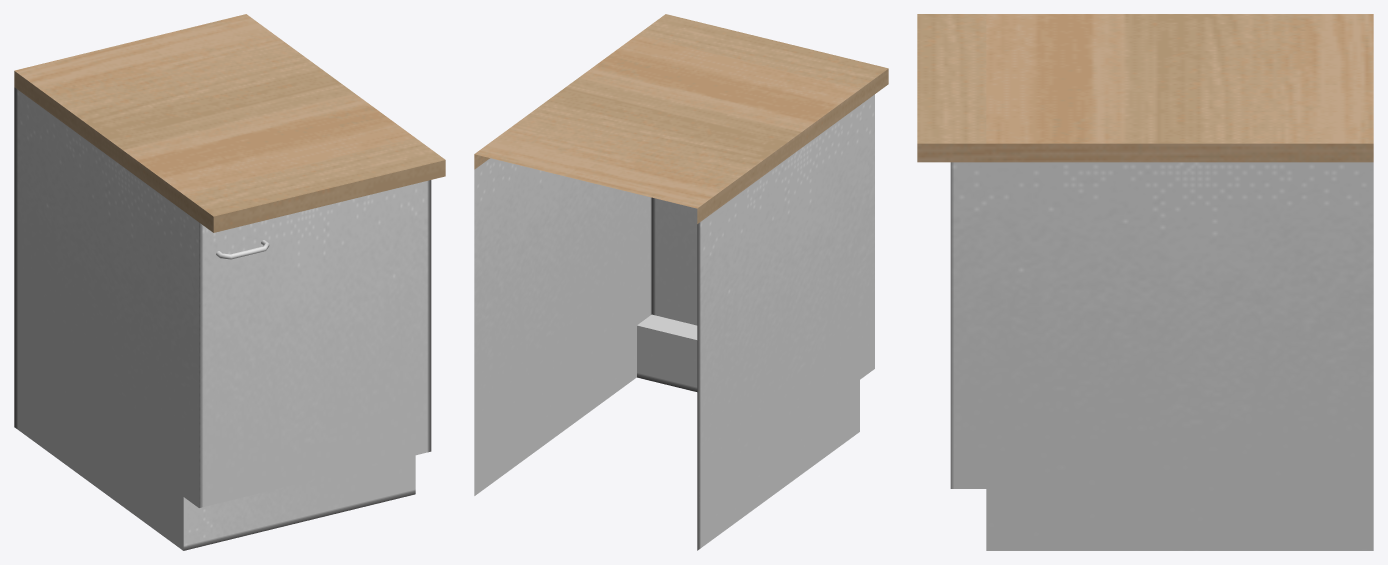
The model's file is Kitchen_Counter_Right.fbx.
3 renders of one model, left to right at view 1: azimuth 30°, elevation 25°; view 2: azimuth 150°, elevation 25°; view 3: azimuth 270°, elevation 25°, orthographic. The views are drawn at different scales.
Parts seen in each view (by area): view 1: Cuisine_Comptoir_Gauche.008; view 2: Cuisine_Comptoir_Gauche.008; view 3: Cuisine_Comptoir_Gauche.008.
Boxes of the visible parts, <box> form: Cuisine_Comptoir_Gauche.008: <box>14,14,445,550</box>; Cuisine_Comptoir_Gauche.008: <box>474,14,888,550</box>; Cuisine_Comptoir_Gauche.008: <box>917,14,1373,550</box>.
Bounding box in the file's own units: 60 × 88 × 89.27.
